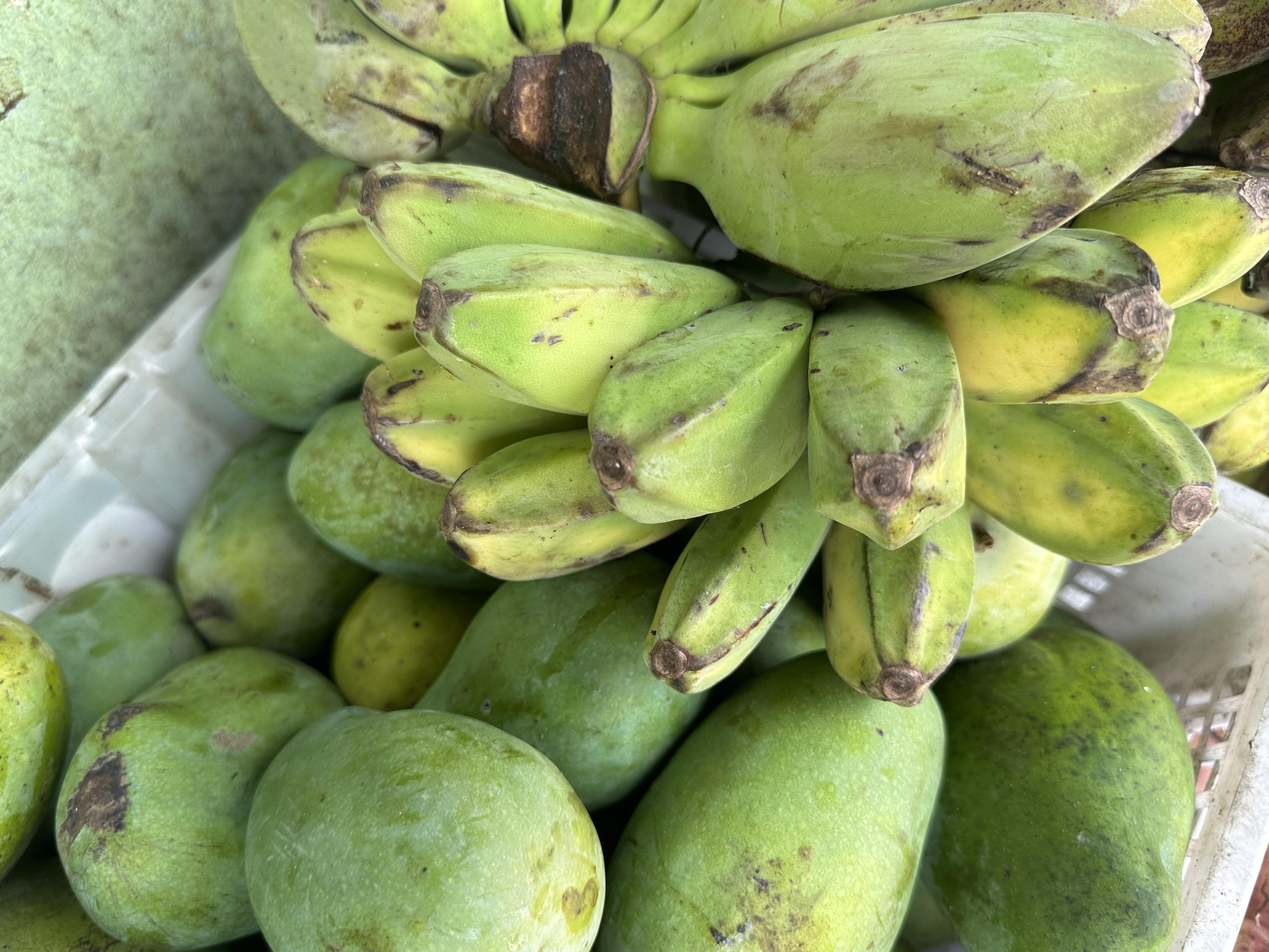underripe: (291, 162, 1269, 705), (240, 0, 1212, 290)
